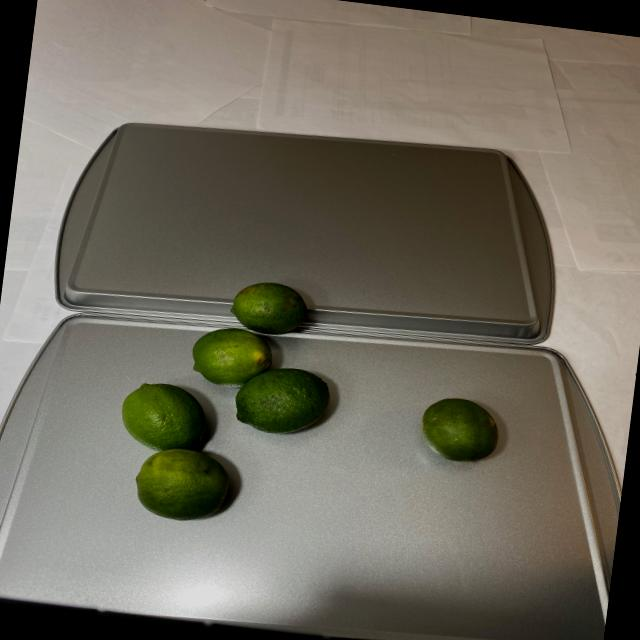lemon: (108, 260, 354, 546), (416, 392, 506, 471)
